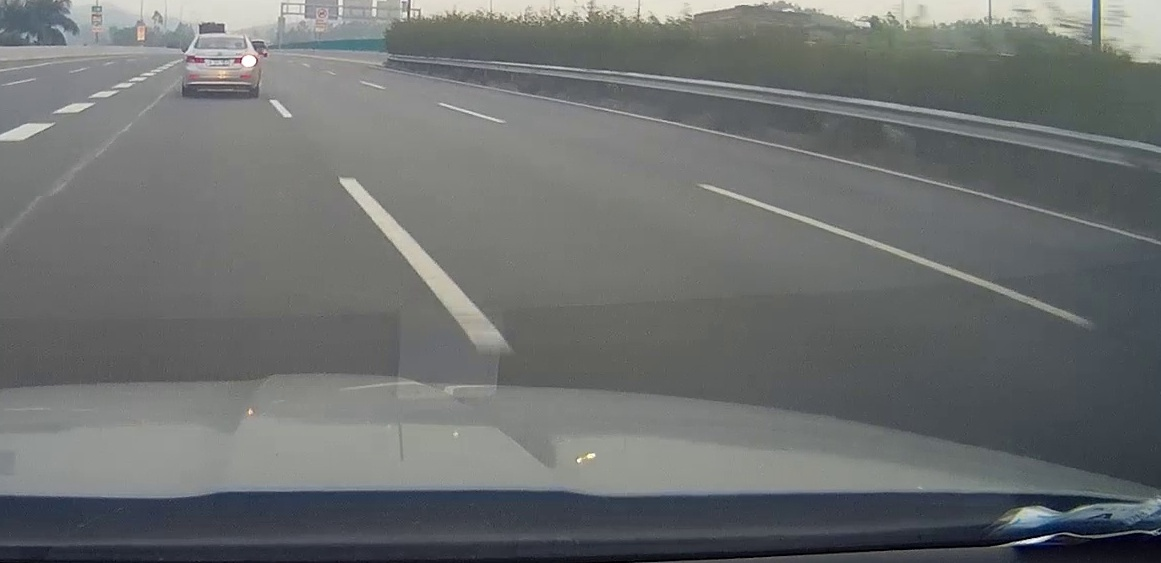L_light: (186, 55, 205, 63)
R_light: (234, 56, 255, 64)
T_light: (218, 36, 227, 37)
day-right: (182, 33, 260, 98)
